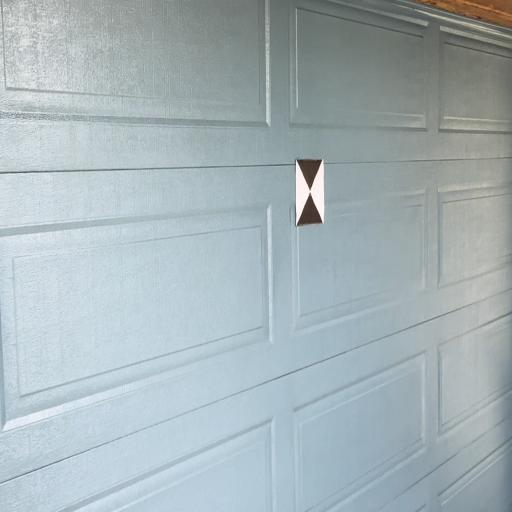target: (295, 159, 324, 225)
